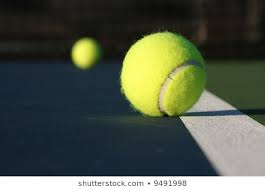tennis_ball: (118, 29, 206, 118), (69, 35, 103, 70)
